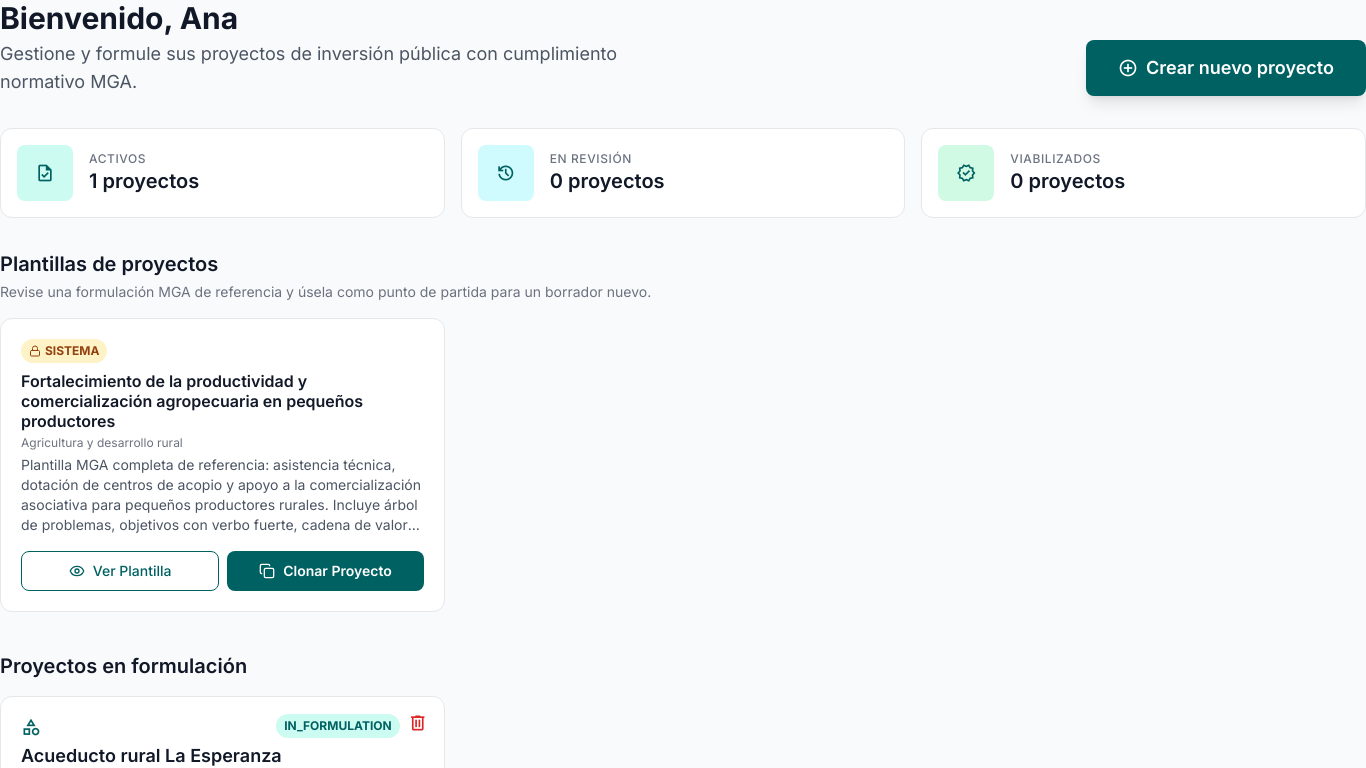
Test: ProjectsDashboard › eliminación de proyectos › muestra el error del backend si la eliminación falla (403)
Click the button named "Eliminar Proyecto" at (418, 726), box [404,709,432,743]
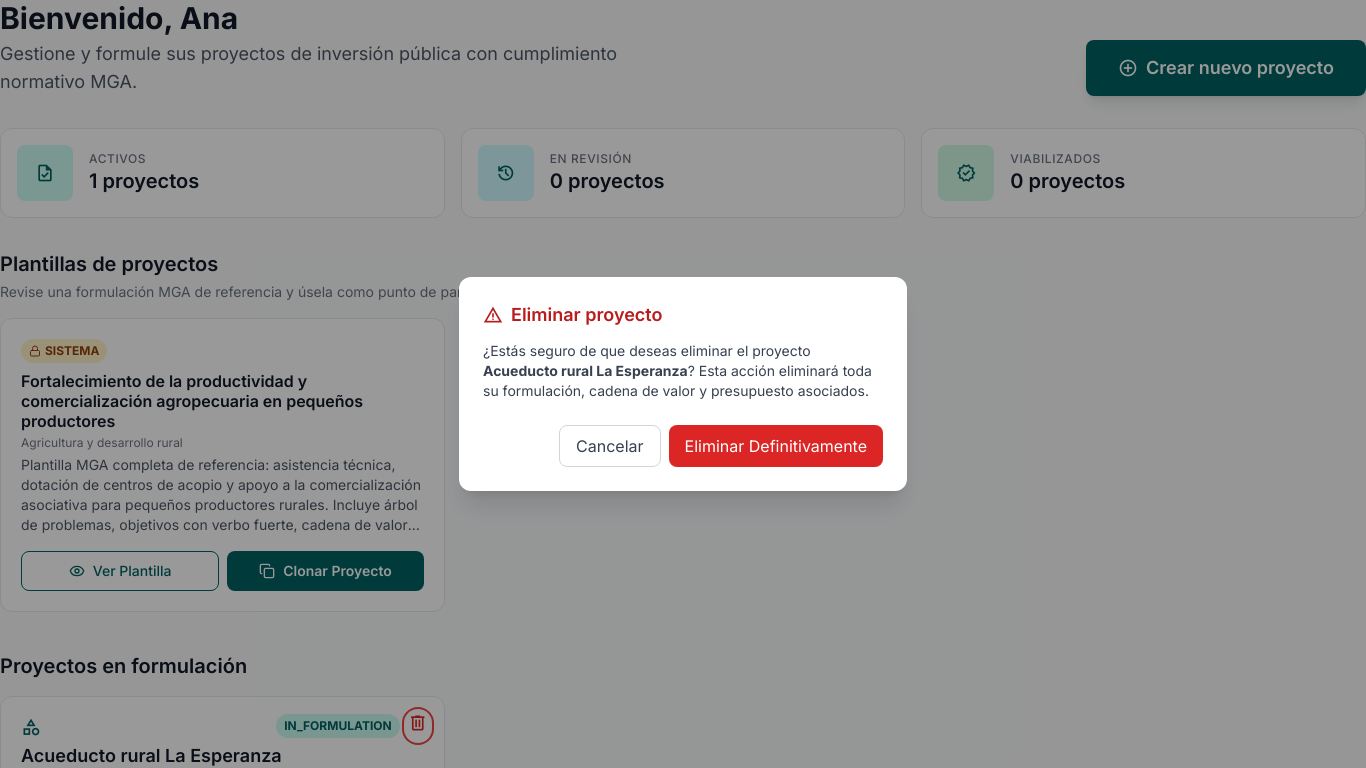
Click the button "Eliminar Definitivamente" at (776, 446), box [669,425,883,467]
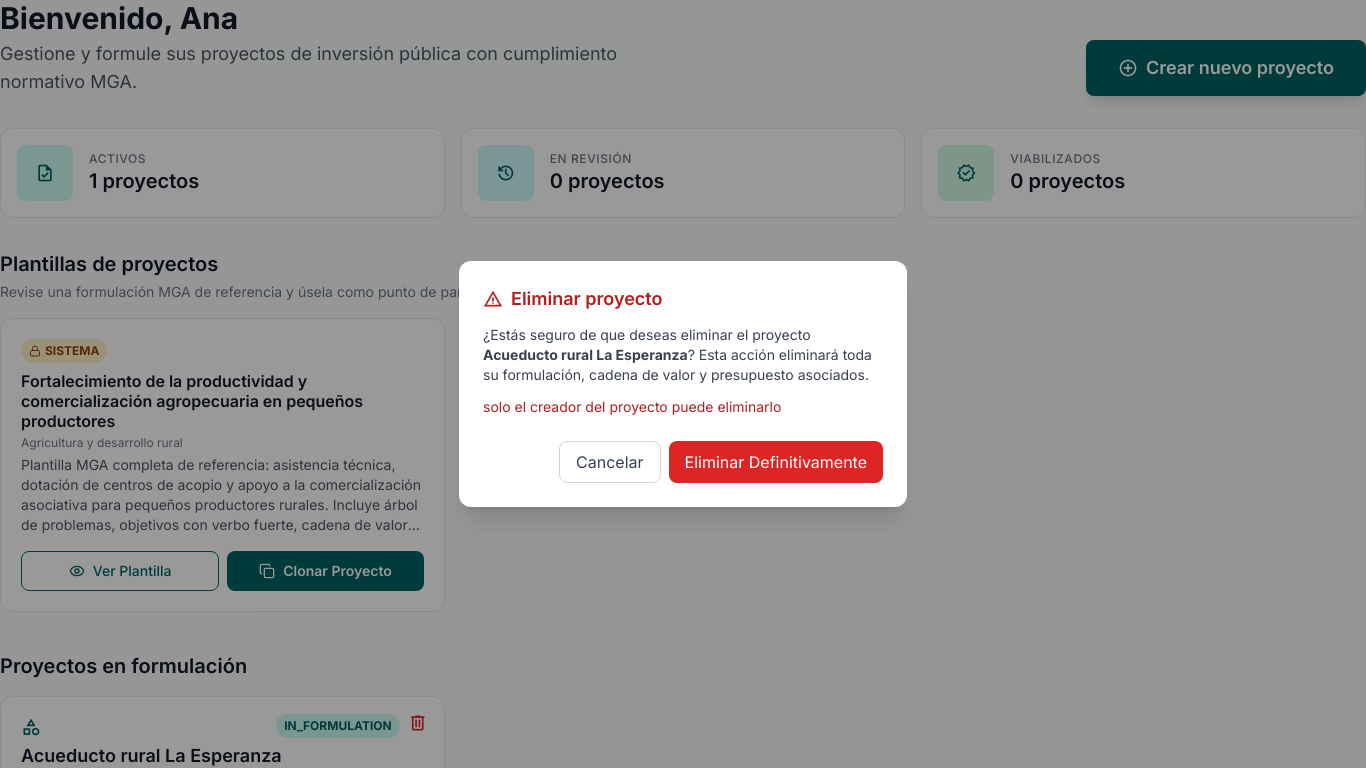
Expected: the message reads "solo el creador del proyecto puede eliminarlo", [483,398,781,415]
